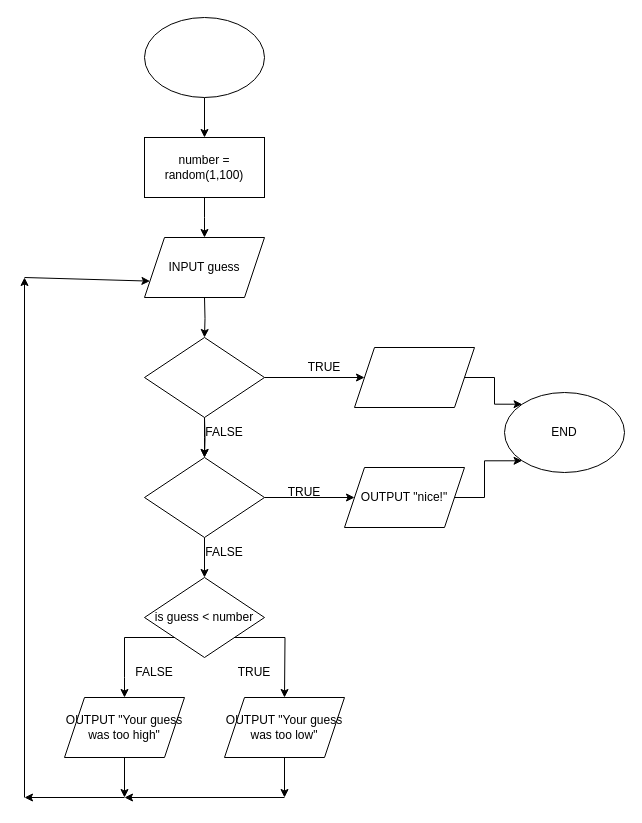
Image size: 642x823. Some labels were removed from this diagram. The shapes that lost their labels are listed below. From the top down, each one's centre as x and y in pixels, then its label:
point 204,57: START
point 204,377: is guess NULL?
point 414,377: OUTPUT "How did you get here"
point 204,497: is guess == number
